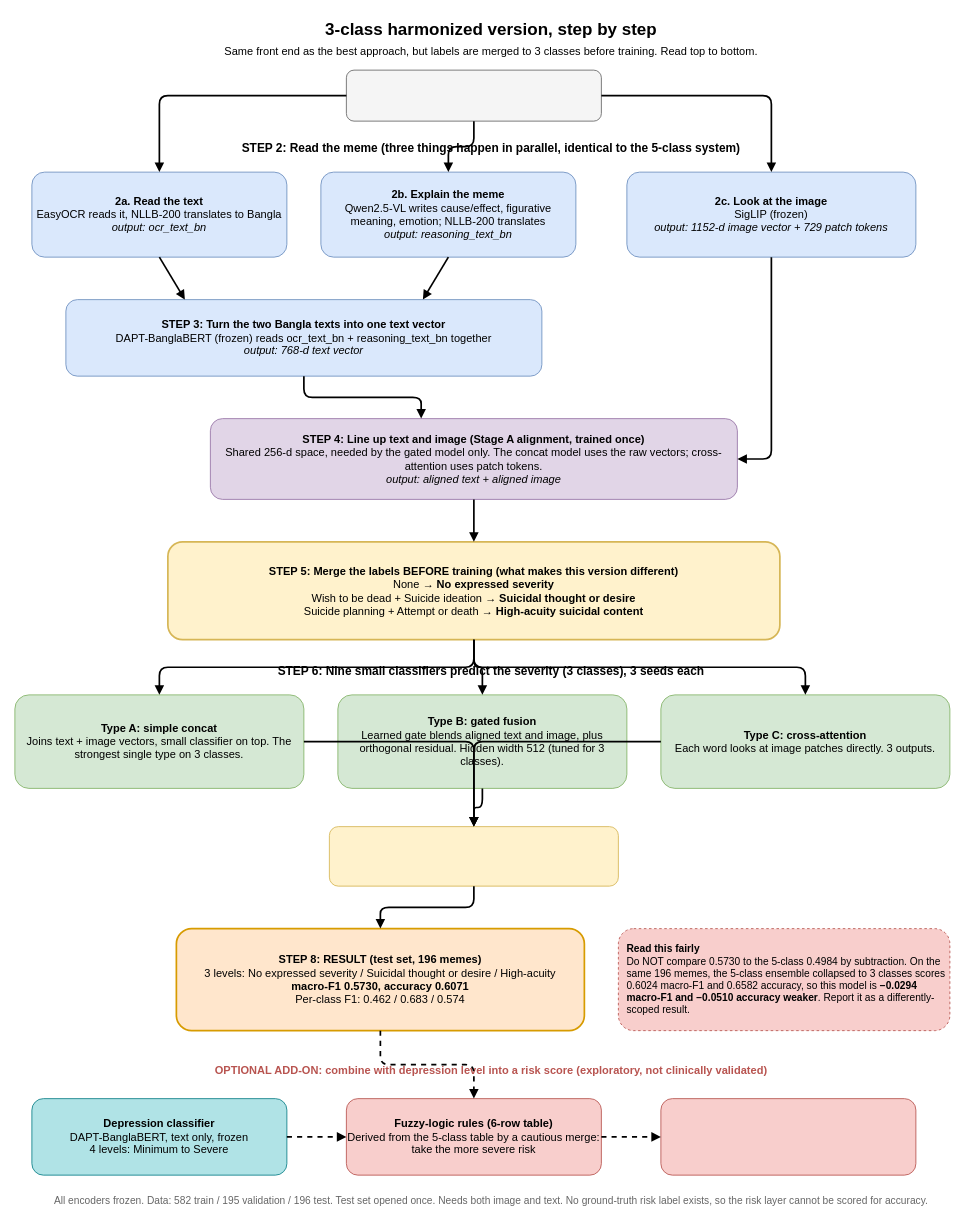
Image size: 965x1227. Some labels were removed from this diagram. Each missing label, with the centre of its shape:
Final risk level (196 memes) Minimal 45 / Low 49 / Elevated 49 / Critical 53: (x=788, y=1136)
STEP 1: Input Bangla meme (image with text): (x=473, y=95)
STEP 7: Majority vote The most common answer among the 9 models wins: (x=473, y=856)
